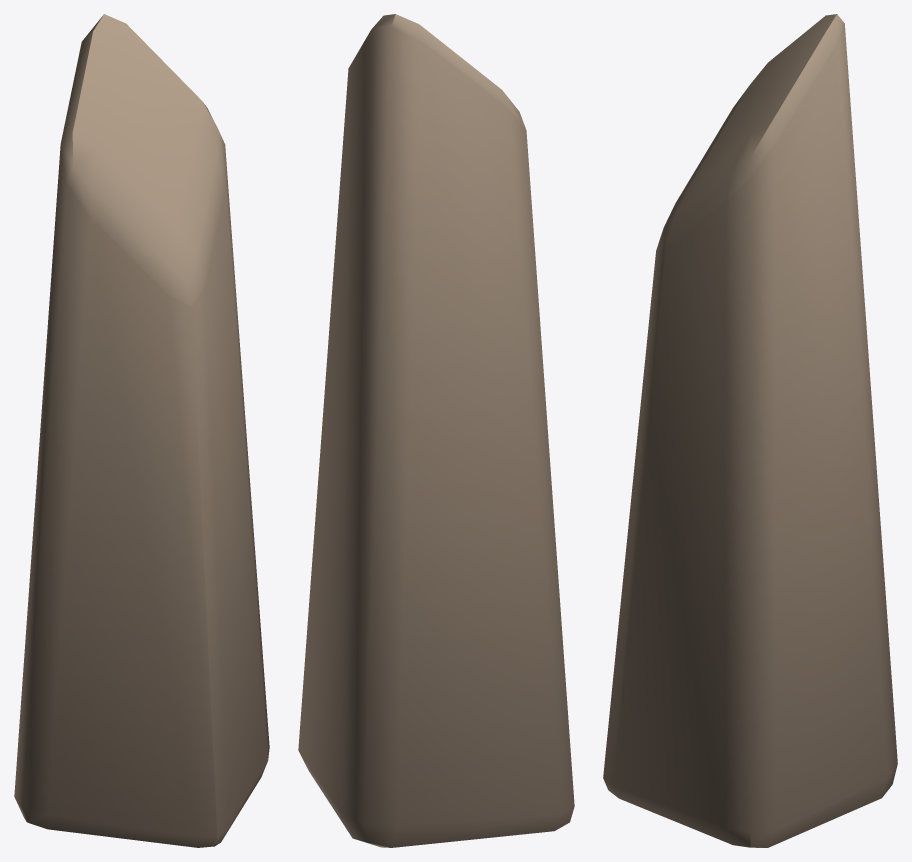
File: Rock_4_C_Color3.fbx
The picture shows the model from 3 angles, left to right: view 1: azimuth 30°, elevation 25°; view 2: azimuth 150°, elevation 25°; view 3: azimuth 270°, elevation 25°; orthographic projection. The views are drawn at different scales.
Parts seen in each view (by area): view 1: Rock_4_C_Color3; view 2: Rock_4_C_Color3; view 3: Rock_4_C_Color3.
Part boxes in pixels (x1=…): Rock_4_C_Color3: x1=14, y1=14, x2=269, y2=847; Rock_4_C_Color3: x1=298, y1=14, x2=574, y2=847; Rock_4_C_Color3: x1=603, y1=14, x2=897, y2=847.
Size of the model in its own units: 1.01 by 2.97 by 1.01.
